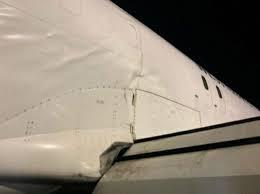Fuselage_damage: (103, 13, 148, 151)
